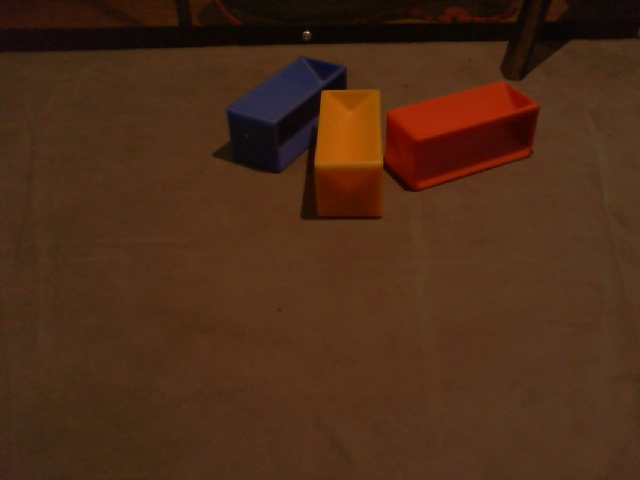BlueSample: (224, 54, 349, 175)
RedSample: (384, 81, 542, 195)
YellowSample: (310, 87, 388, 219)
